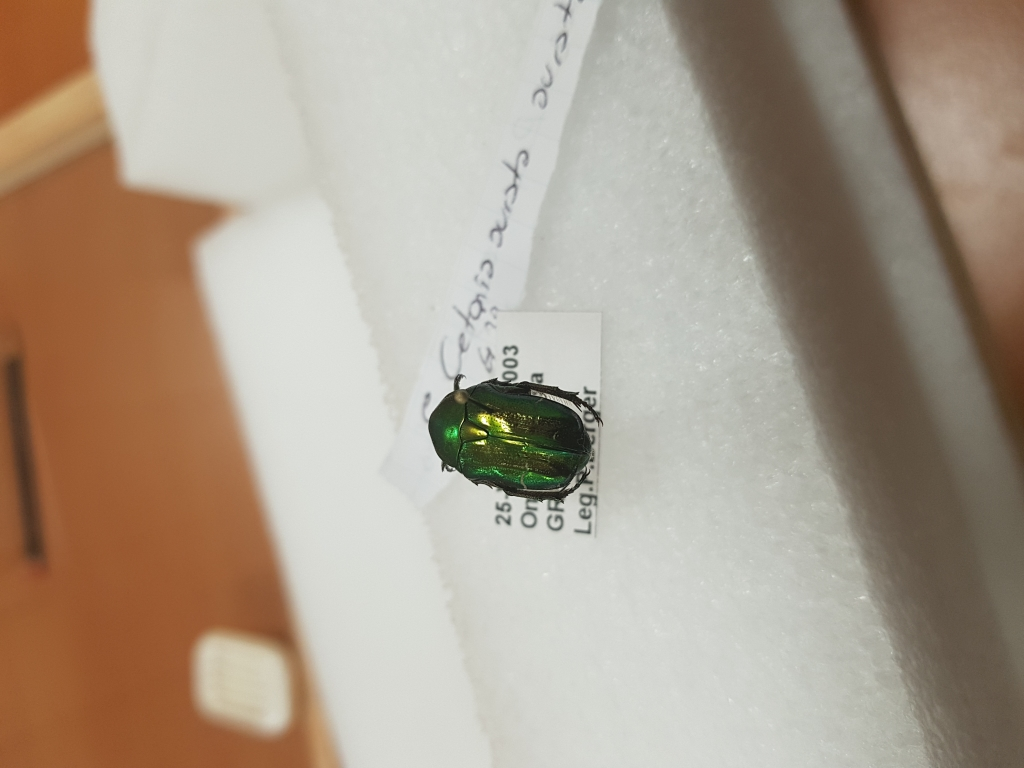Cetonia_aurata: (410, 359, 607, 514)
